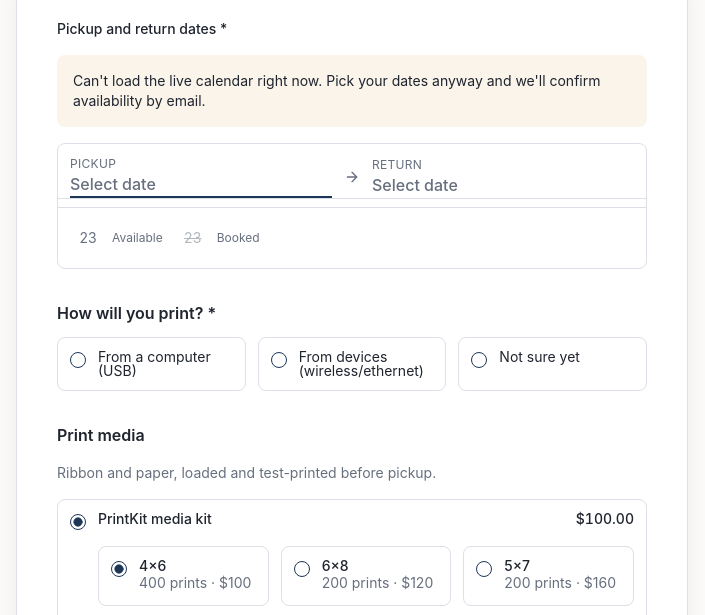
Test: RequestForm › auto-checks the print server for device printing but respects unchecking
This screenshot has width=705, height=615.
(page scrolled)
Click the radio button named "From devices (wireless/ethernet)" next to "From devices (wireless/ethernet)" at (279,360), box [271, 352, 287, 368]
(page scrolled)
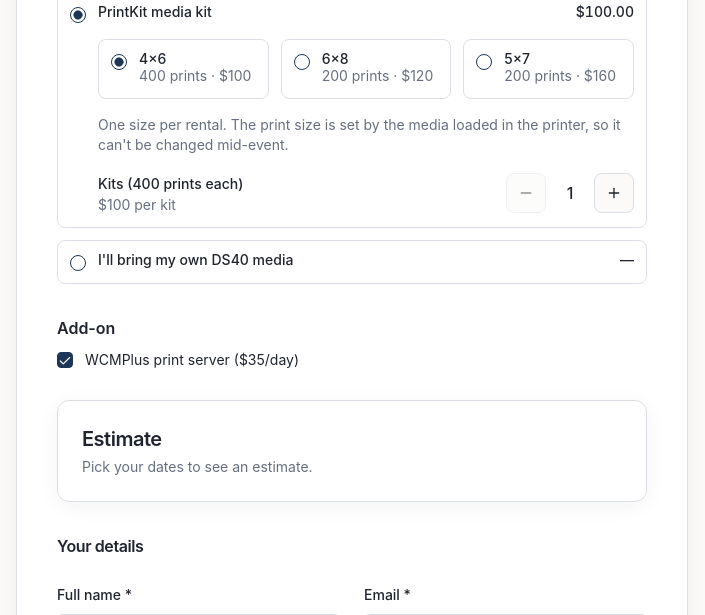
Expected: the checkbox named "WCMPlus print server ($35/day)" is checked
Click the checkbox named "WCMPlus print server ($35/day)" at (65,360), box [57, 352, 73, 368]
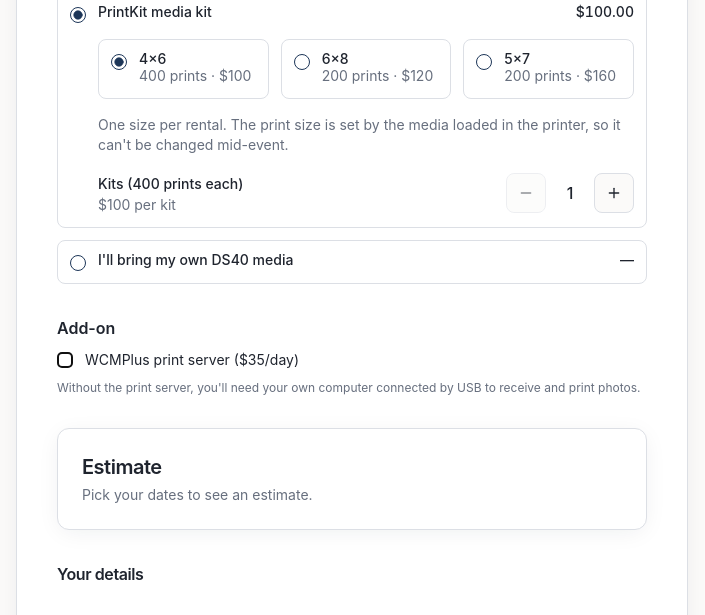
Expected: the checkbox named "WCMPlus print server ($35/day)" is not checked, [57, 352, 73, 368]
Expected: the text "Without the print server, you'll need your own computer connected by USB to receive and print photos." is shown, [57, 380, 640, 395]
